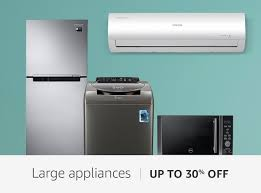AC: (108, 14, 243, 51)
Refrigerator: (26, 19, 84, 154)
